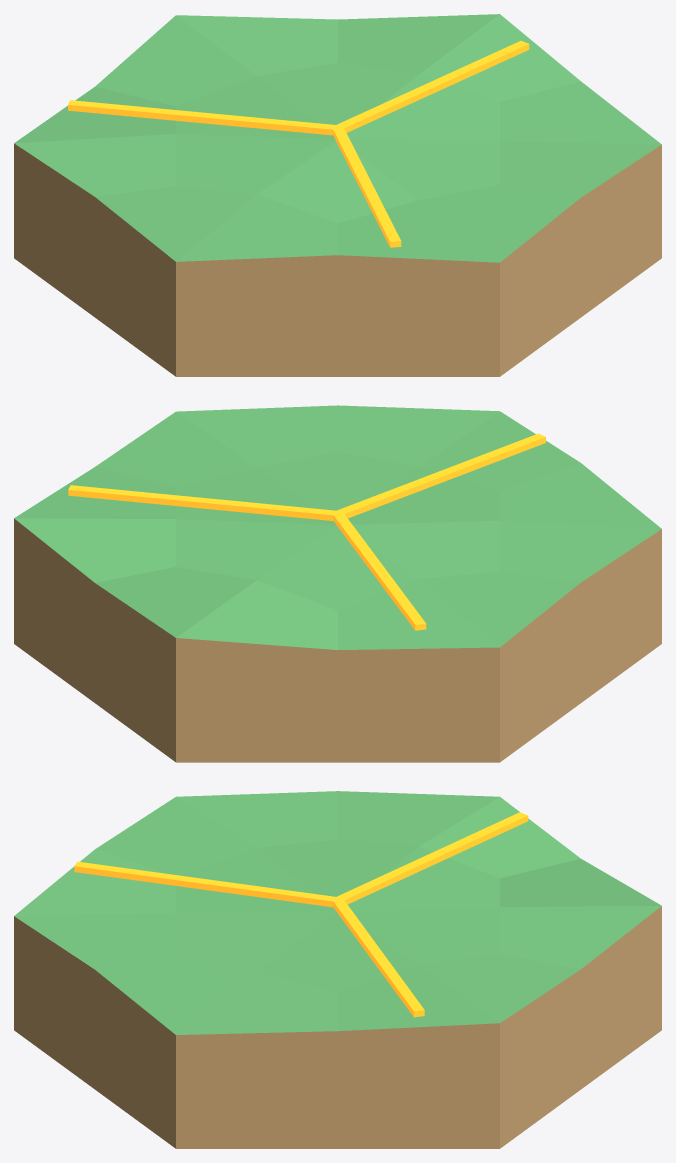
File: terrain_hex_tile_cracked.glb
3 renders of one model, top to bottom at view 1: azimuth 30°, elevation 25°; view 2: azimuth 150°, elevation 25°; view 3: azimuth 270°, elevation 25°, orthographic.
Visible parts, largest first — view 1: Terrain_Hex_Cracked; view 2: Terrain_Hex_Cracked; view 3: Terrain_Hex_Cracked.
Boxes of the visible parts, x1,y1,x2,y2 form: Terrain_Hex_Cracked: (14,14,661,376); Terrain_Hex_Cracked: (14,405,661,762); Terrain_Hex_Cracked: (14,791,661,1148).
Size of the model in its own units: 3.46 by 0.89 by 4.
